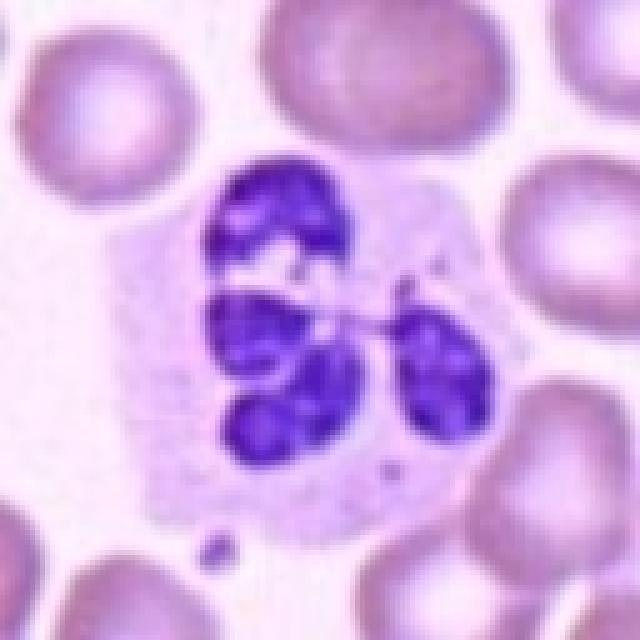neutro: (137, 106, 568, 530)
